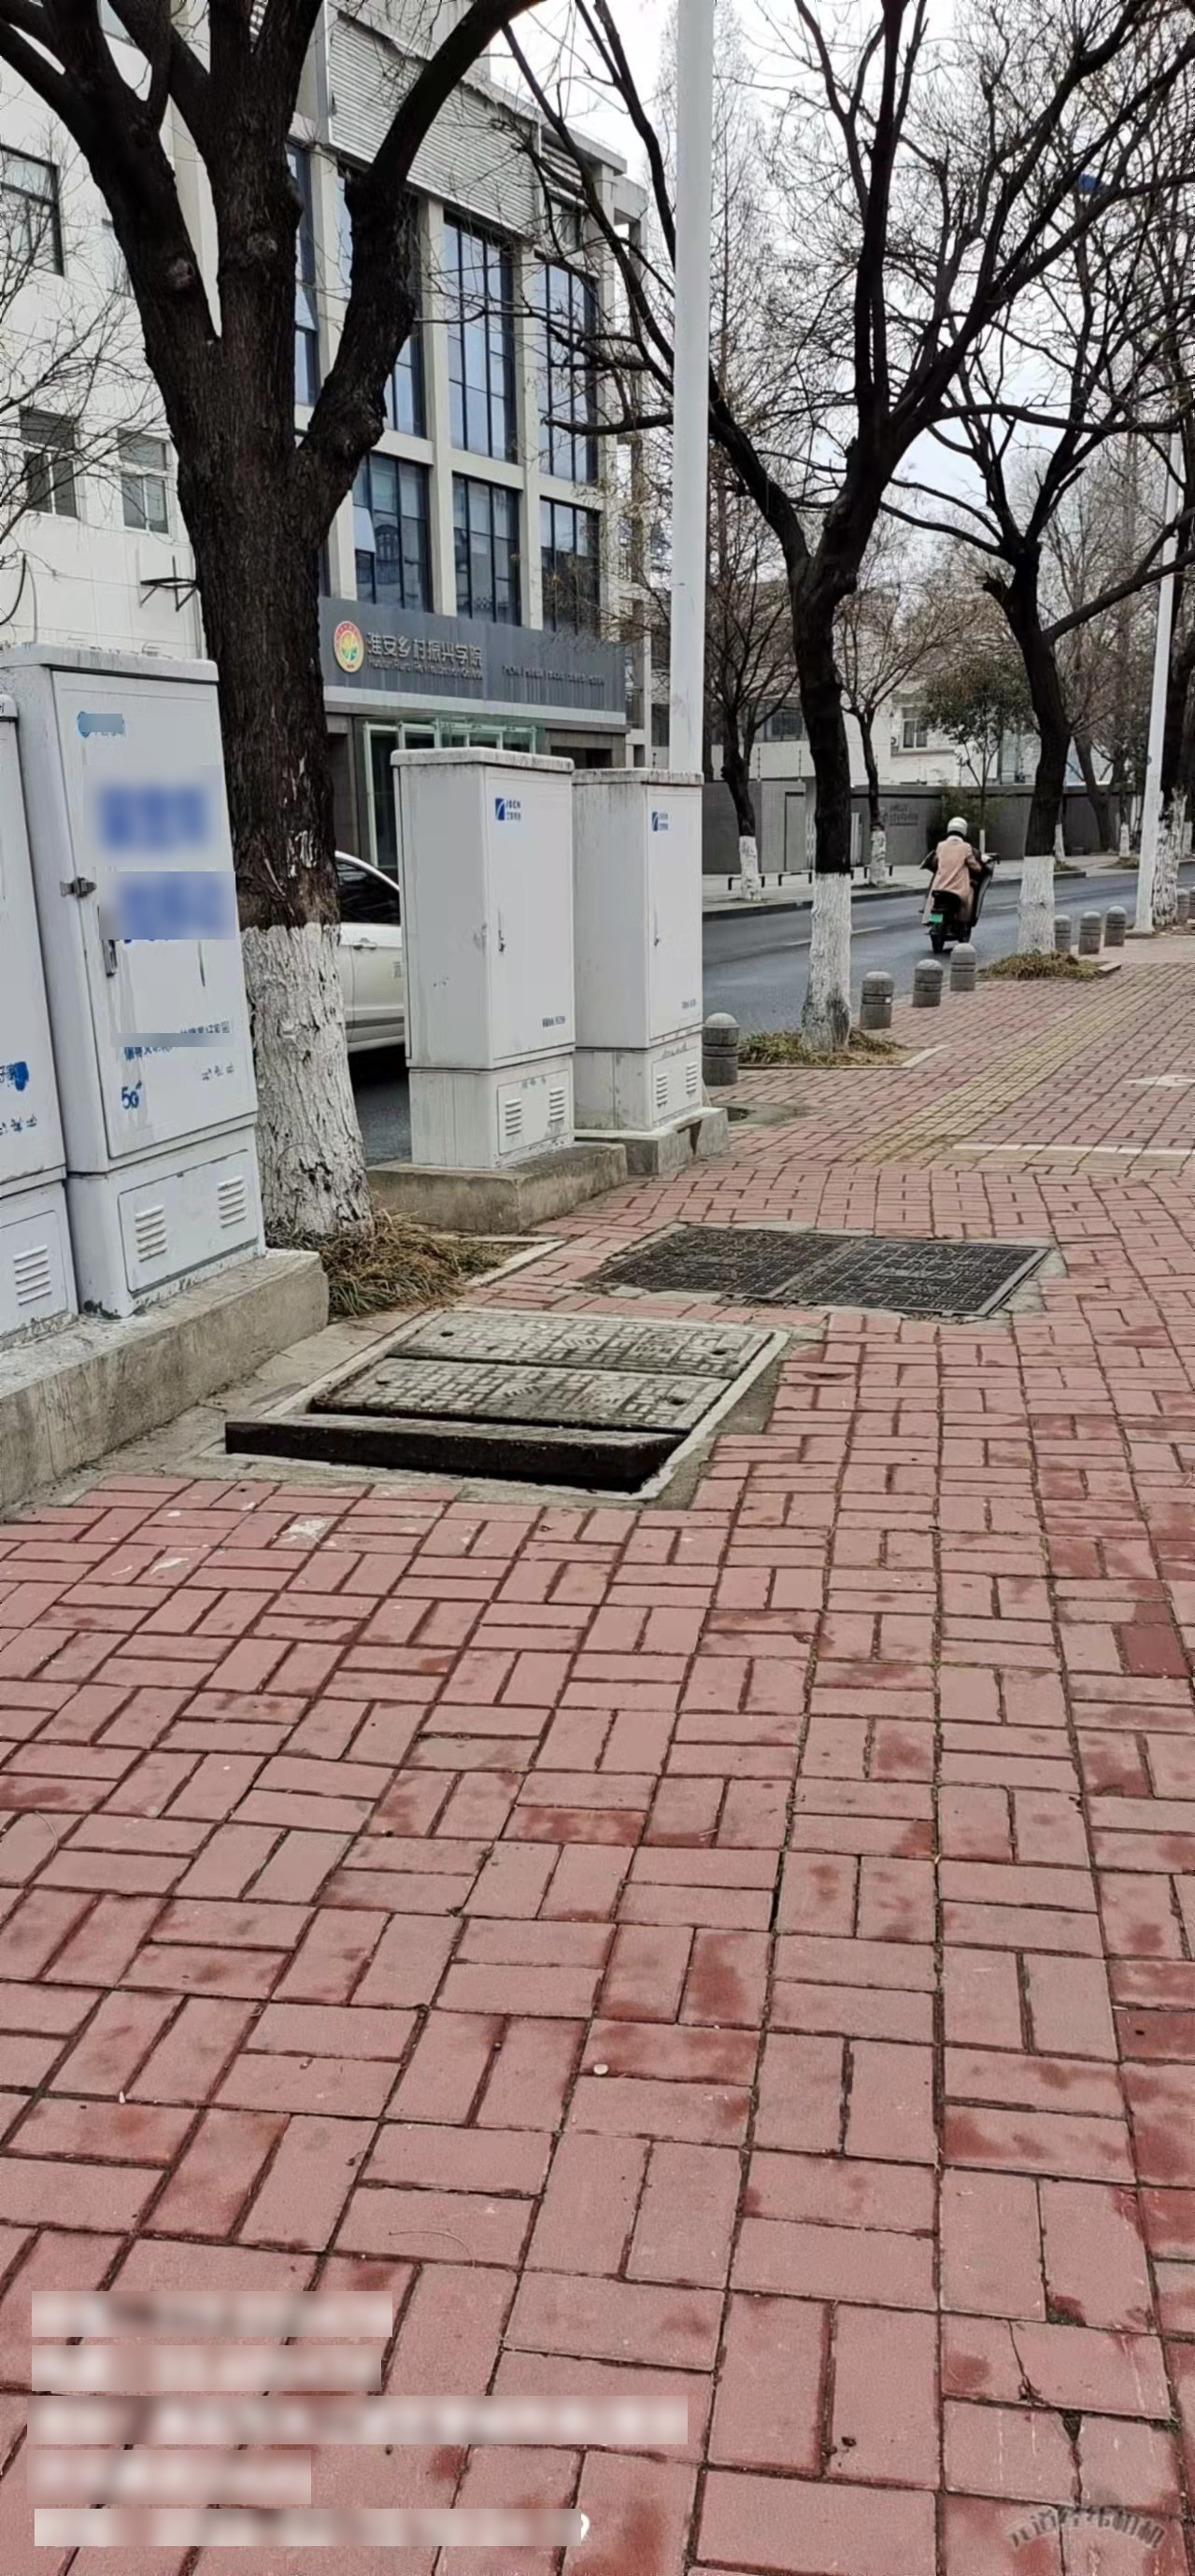good: (582, 1209, 1060, 1331)
uncovered: (217, 1306, 794, 1518)
